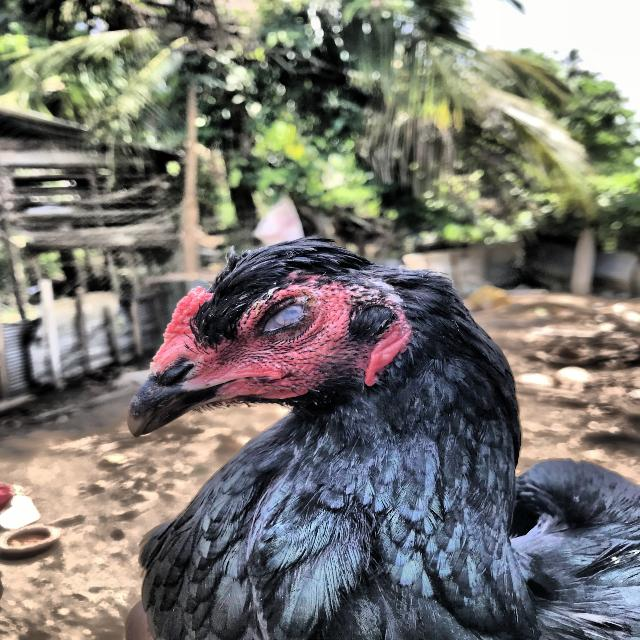Coryza: (125, 216, 640, 640)
